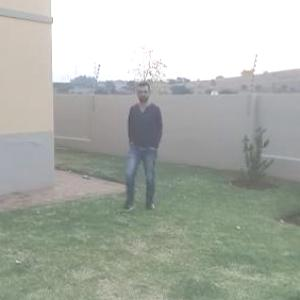follow: (122, 80, 165, 203)
